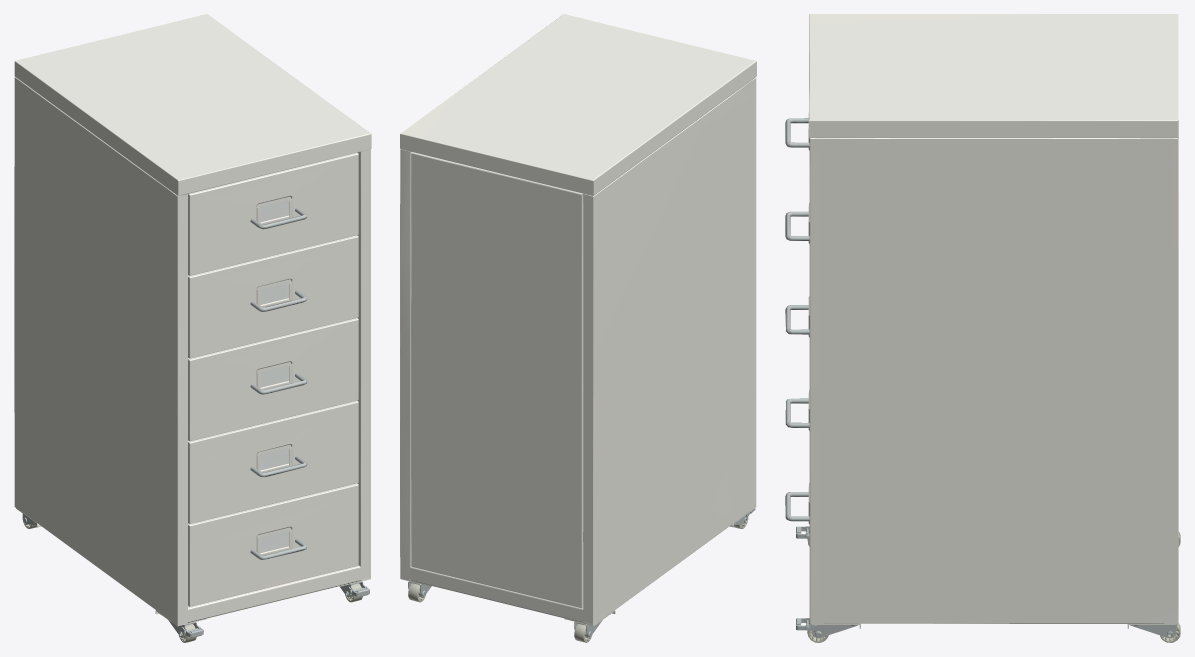
Rendered from helmer_komoda_na_kokach_00619902.glb.
The picture shows the model from 3 angles, left to right: view 1: azimuth 30°, elevation 25°; view 2: azimuth 150°, elevation 25°; view 3: azimuth 270°, elevation 25°; orthographic projection. The views are drawn at different scales.
Parts seen in each view (by area): view 1: helmer_komoda_na_kokach_00619902; view 2: helmer_komoda_na_kokach_00619902; view 3: helmer_komoda_na_kokach_00619902.
Part boxes in pixels (<box>): helmer_komoda_na_kokach_00619902: <box>14,14,371,642</box>; helmer_komoda_na_kokach_00619902: <box>400,14,756,642</box>; helmer_komoda_na_kokach_00619902: <box>785,14,1180,642</box>.
Bounding box in the file's own units: 0.2797 × 0.6444 × 0.437.
Materials: 1 (1 with a texture image).
